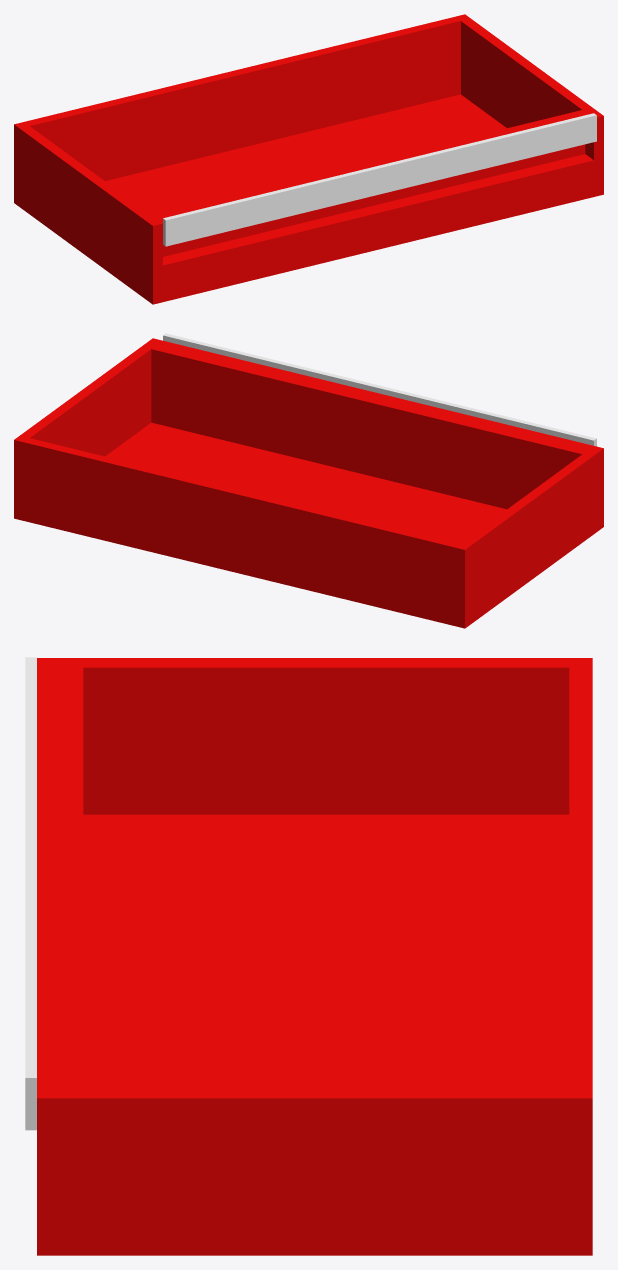
File: tbd1.glb
3 renders of one model, top to bottom at view 1: azimuth 30°, elevation 25°; view 2: azimuth 150°, elevation 25°; view 3: azimuth 270°, elevation 25°, orthographic. The views are drawn at different scales.
Parts seen in each view (by area): view 1: BOTTOMDRAWER_6_30, Body70_14_31; view 2: BOTTOMDRAWER_6_30, Body70_14_31; view 3: BOTTOMDRAWER_6_30, Body70_14_31.
Boxes of the visible parts, box(x1,y1,x2,y2) form: BOTTOMDRAWER_6_30: box(14, 14, 603, 304); Body70_14_31: box(163, 113, 596, 246); BOTTOMDRAWER_6_30: box(14, 338, 603, 628); Body70_14_31: box(163, 333, 596, 446); BOTTOMDRAWER_6_30: box(37, 658, 592, 1255); Body70_14_31: box(25, 657, 36, 1130).
Size of the model in its own units: 0.45 by 0.08 by 0.245.
